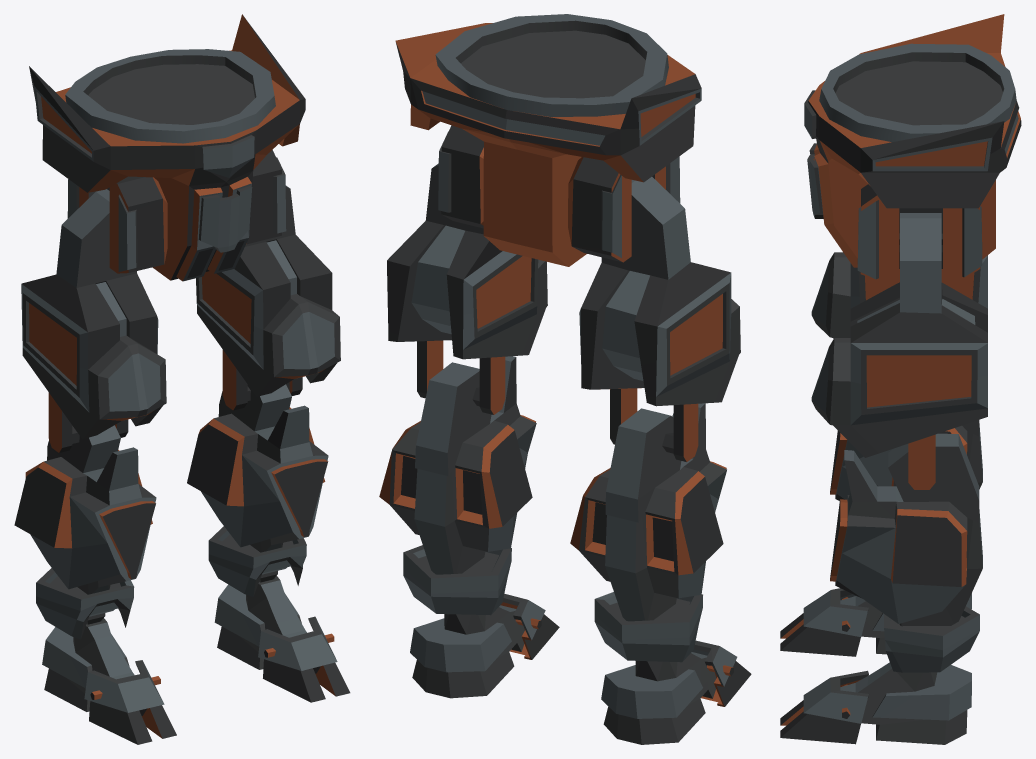
Rendered from Legs.fbx.
3 views of the same model, side by side, from view 1: azimuth 30°, elevation 25°; view 2: azimuth 150°, elevation 25°; view 3: azimuth 270°, elevation 25° (orthographic). The views are drawn at different scales.
Visible parts, largest first — view 1: Legs; view 2: Legs; view 3: Legs.
Boxes of the visible parts, x1,y1,x2,y2 form: Legs: (14, 14, 350, 744); Legs: (379, 14, 751, 744); Legs: (780, 14, 1021, 744).
Size of the model in its own units: 318 by 642 by 227.
